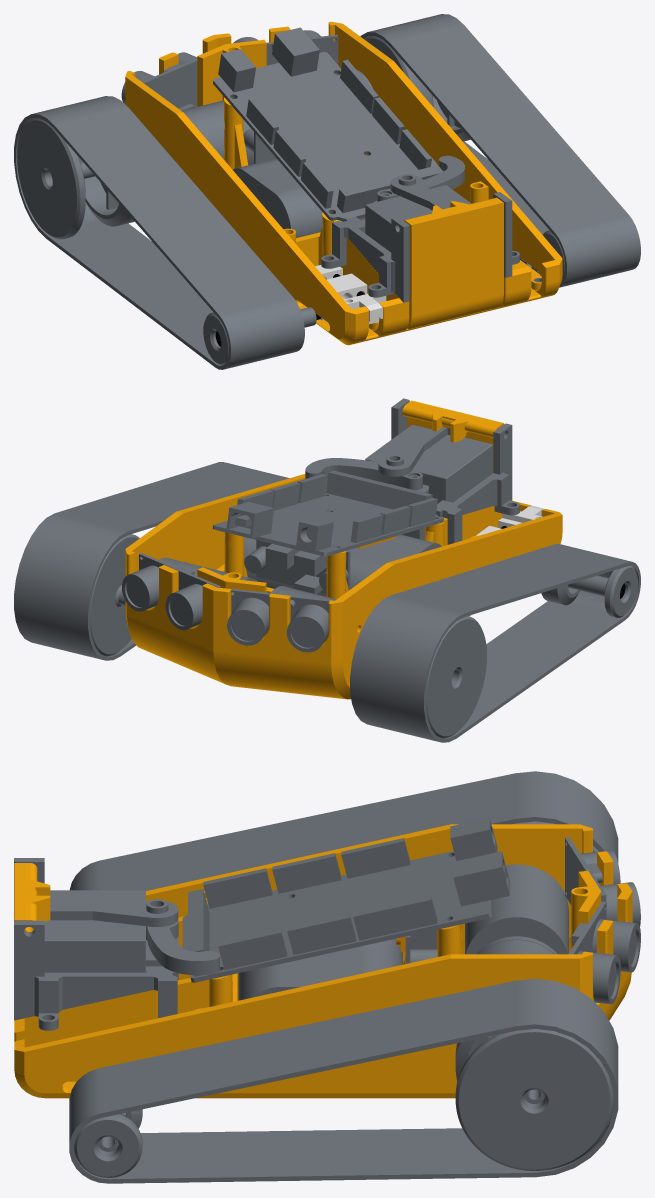
Rendered from Assembly_Beta_02-Assembly.gltf.
3 renders of one model, top to bottom at view 1: azimuth 30°, elevation 25°; view 2: azimuth 150°, elevation 25°; view 3: azimuth 270°, elevation 25°, orthographic. The views are drawn at different scales.
Visible parts, largest first — view 1: Tread, Lower Chassis, Tread001, Arduino, Cube Door, Wheels_Treads001, Door Hinge, Battery, Marker Cube, Body002, Tread Motor001, CAM Linkage (+7 smaller); view 2: Lower Chassis, Tread, Tread001, Arduino, Wheels_Treads001, Marker Cube, Body002, Door Hinge, Body001, Wheels_Treads, Buck Converter, Battery (+4 smaller); view 3: Tread001, Lower Chassis, Arduino, Tread, Wheels_Treads, Door Hinge, Marker Cube, Tread Motor001, Battery, Wheels_Treads_Idler001, Body001, CAM Linkage (+5 smaller).
Boxes of the visible parts, x1,y1,x2,y2 form: Tread: (14,96,304,369); Lower Chassis: (125,21,562,345); Tread001: (360,14,640,287); Arduino: (213,27,442,221); Cube Door: (403,197,503,329); Wheels_Treads001: (17,118,134,239); Door Hinge: (321,192,519,302); Battery: (233,156,437,237); Marker Cube: (365,185,471,252); Body002: (121,52,197,110); Tread Motor001: (181,100,253,165); CAM Linkage: (377,155,464,201); Lower Chassis: (125,474,562,699); Tread: (350,544,640,742); Tread001: (14,462,289,660); Arduino: (213,470,443,556); Wheels_Treads001: (426,616,486,738); Marker Cube: (365,424,492,503); Body002: (227,588,334,652); Door Hinge: (391,398,519,544); Body001: (122,553,220,630); Wheels_Treads: (90,534,139,656); Buck Converter: (244,540,350,594); Battery: (244,534,441,596); Tread001: (69,978,618,1183); Lower Chassis: (14,824,632,1098); Arduino: (182,817,509,982); Tread: (69,771,618,890); Wheels_Treads: (455,1029,613,1170); Door Hinge: (14,858,178,1030); Marker Cube: (44,890,145,972); Tread Motor001: (465,864,568,954); Battery: (238,938,402,1000); Wheels_Treads_Idler001: (74,1109,142,1177); Body001: (568,901,640,1004); CAM Linkage: (146,899,219,975).
Size of the model in its own units: 0.1916 by 0.0749 by 0.2006.
